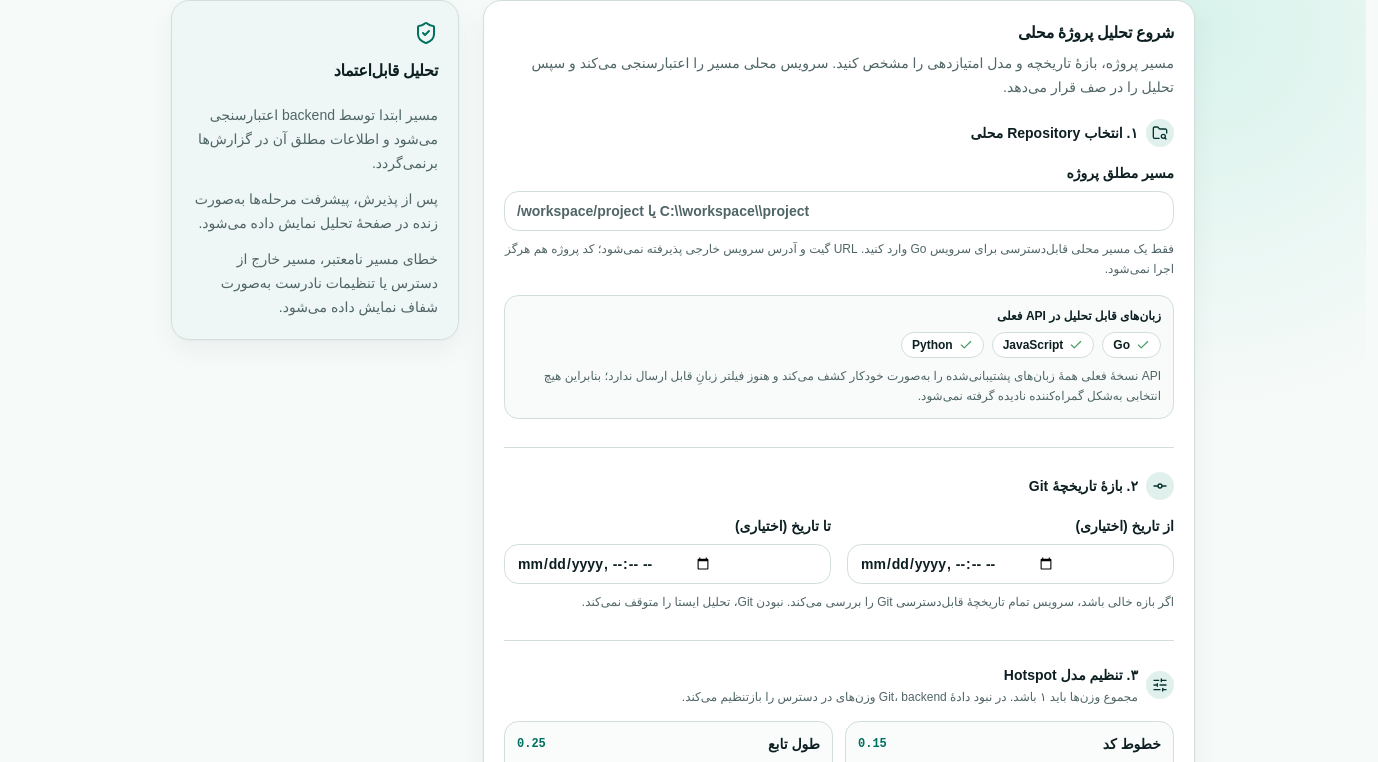
Test: NewAnalysisPage › validates a local path with the backend before it starts live analysis
Type "/workspace/project" into the field labelled "مسیر مطلق پروژه". click: (839, 211)
box: [504,191,1174,231]
(page scrolled)
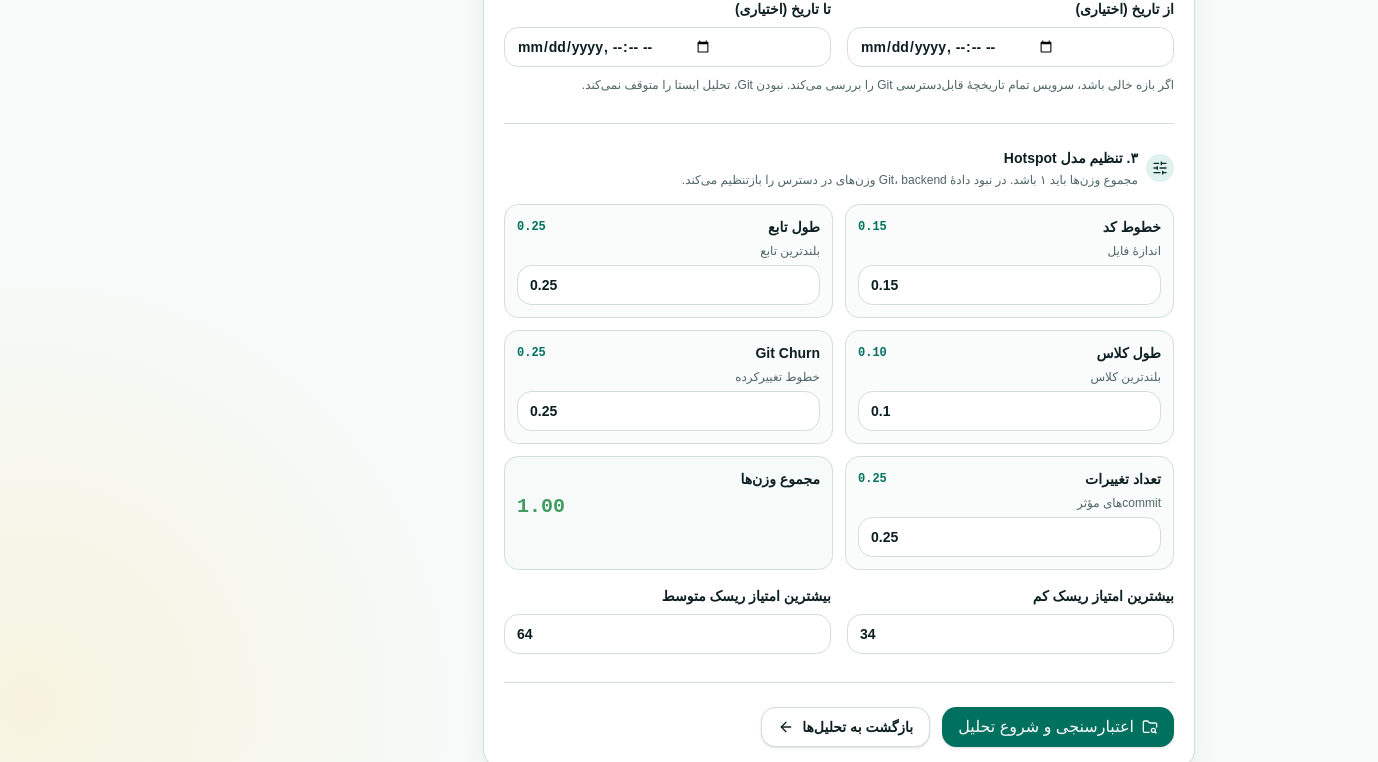
Click the button "اعتبارسنجی و شروع تحلیل". click: (1058, 727)
box: [942,707,1174,747]
(page scrolled)
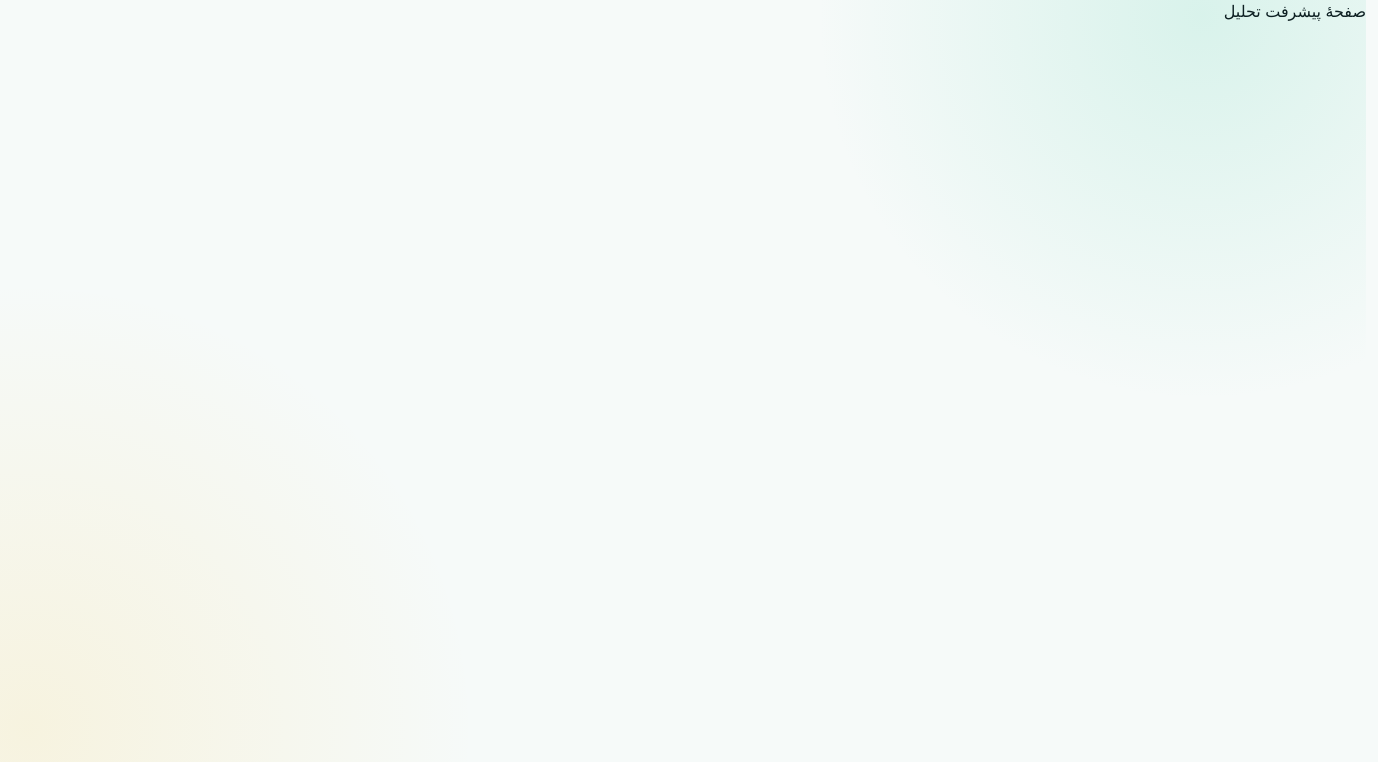
Expected: the text "صفحهٔ پیشرفت تحلیل" is shown, [1224,3,1366,20]
